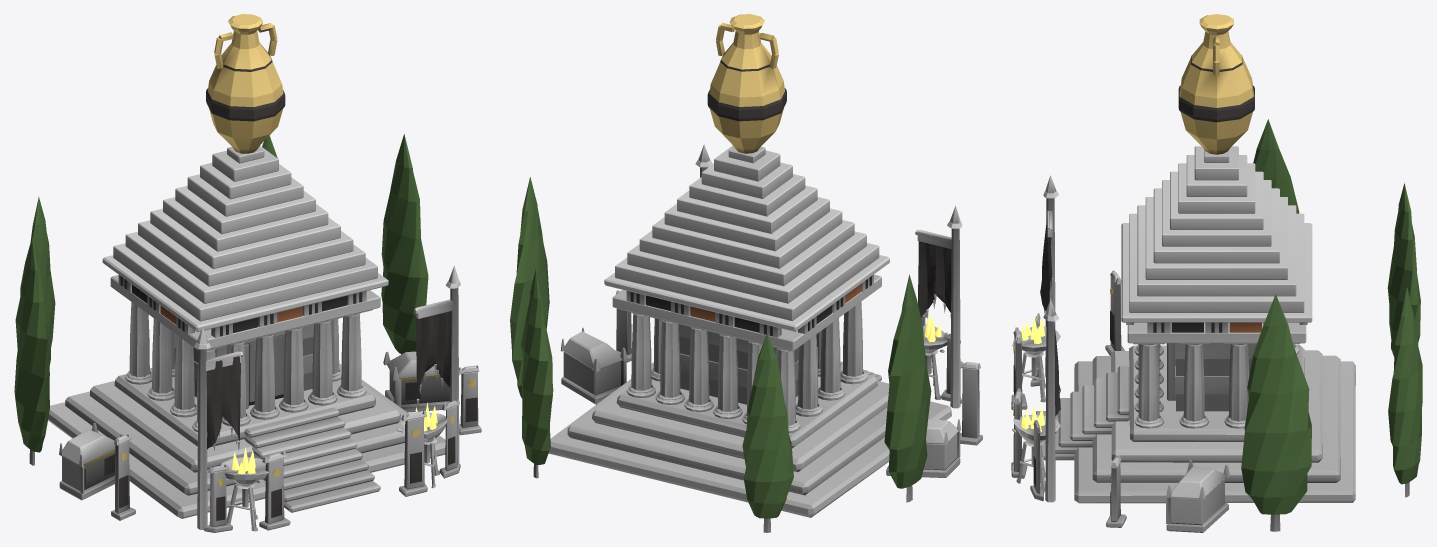
The model's file is tombs-of-erebus-l3.glb.
3 renders of one model, left to right at view 1: azimuth 30°, elevation 25°; view 2: azimuth 150°, elevation 25°; view 3: azimuth 270°, elevation 25°, orthographic.
Visible parts, largest first — view 1: tombs-of-erebus-l3; view 2: tombs-of-erebus-l3; view 3: tombs-of-erebus-l3.
Boxes of the visible parts, <box> form: tombs-of-erebus-l3: <box>14,14,481,532</box>; tombs-of-erebus-l3: <box>510,14,982,532</box>; tombs-of-erebus-l3: <box>1011,14,1422,532</box>.
Size of the model in its own units: 1.55 by 1.54 by 1.37.
